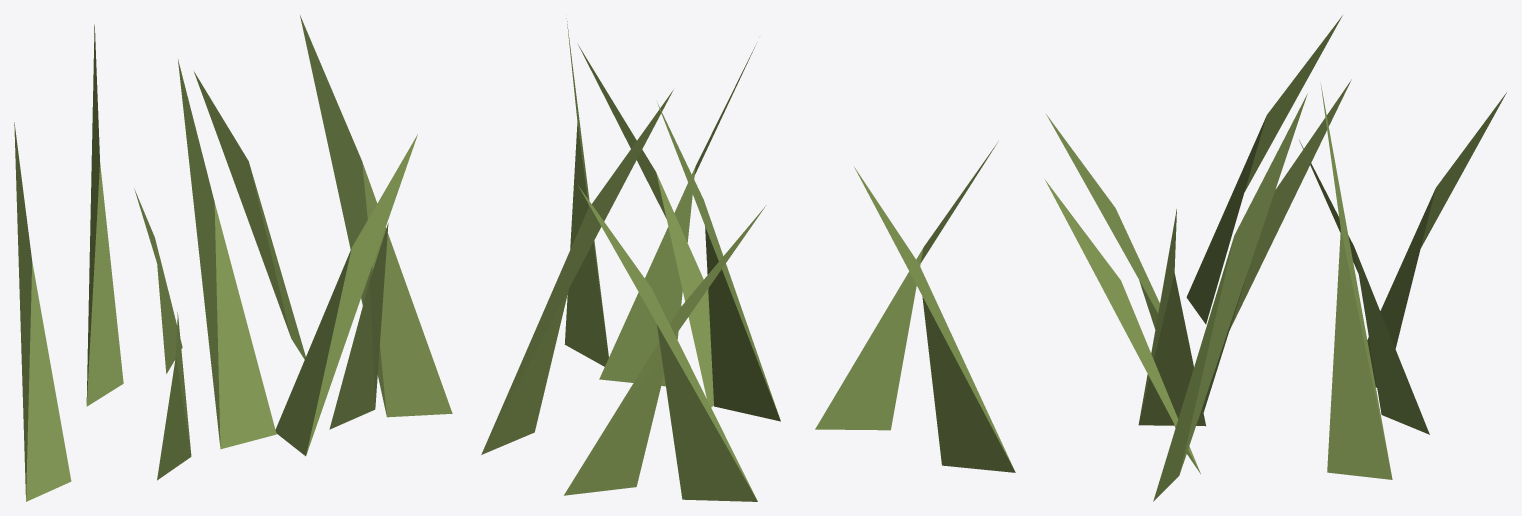
The model's file is grass-0.glb.
3 views of the same model, side by side, from view 1: azimuth 30°, elevation 25°; view 2: azimuth 150°, elevation 25°; view 3: azimuth 270°, elevation 25° (orthographic). The views are drawn at different scales.
Visible parts, largest first — view 1: Grass tuft; view 2: Grass tuft; view 3: Grass tuft.
Part boxes in pixels (bbox=[...]): Grass tuft: bbox=[14, 15, 452, 501]; Grass tuft: bbox=[481, 18, 1015, 501]; Grass tuft: bbox=[1045, 15, 1506, 501].
Size of the model in its own units: 0.7862 by 0.6649 by 0.753.
